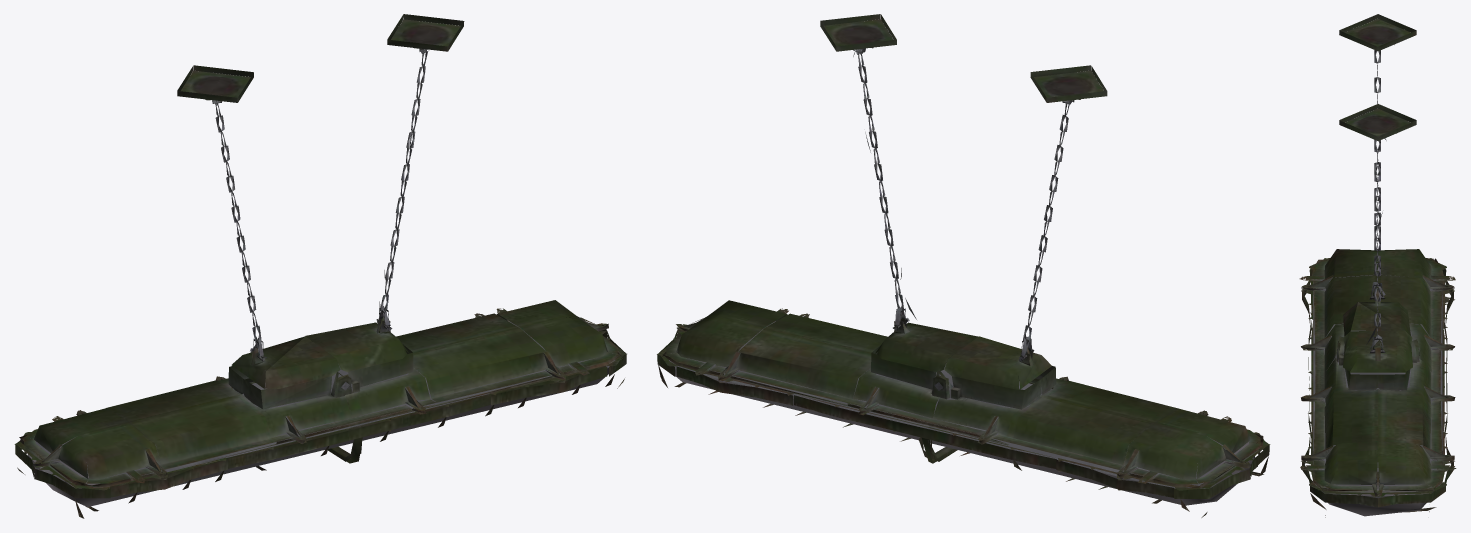
Rendered from caged_hanging_light.glb.
The picture shows the model from 3 angles, left to right: view 1: azimuth 30°, elevation 25°; view 2: azimuth 150°, elevation 25°; view 3: azimuth 270°, elevation 25°; orthographic projection. The views are drawn at different scales.
Visible parts, largest first — view 1: caged_hanging_light; view 2: caged_hanging_light; view 3: caged_hanging_light.
Part boxes in pixels (box(x1,y1,x2,y2)): caged_hanging_light: box(14, 14, 626, 518); caged_hanging_light: box(657, 14, 1270, 517); caged_hanging_light: box(1299, 14, 1456, 517).
Size of the model in its own units: 1.17 by 0.7501 by 0.3164.
Materials: 1 (1 with a texture image).
